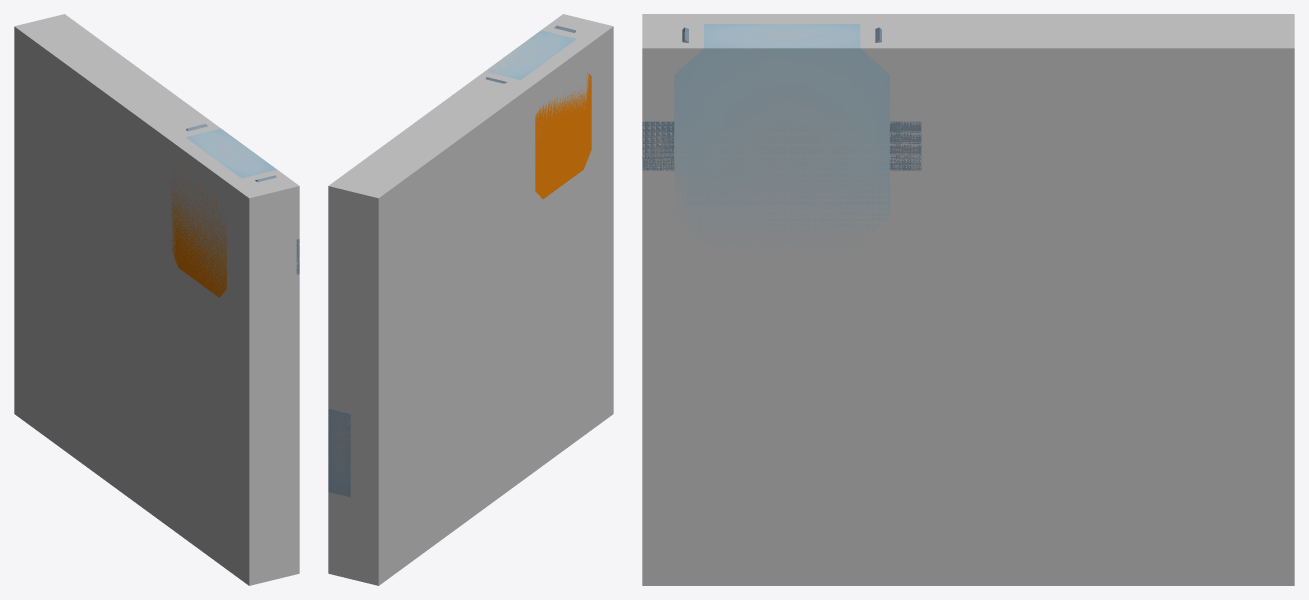
File: SM_Electric_Box_02.fbx
3 views of the same model, side by side, from view 1: azimuth 30°, elevation 25°; view 2: azimuth 150°, elevation 25°; view 3: azimuth 270°, elevation 25° (orthographic). The views are drawn at different scales.
Visible parts, largest first — view 1: SM_Electric_Box_02_ConvexHulls, SM_Electric_Box_02; view 2: SM_Electric_Box_02_ConvexHulls, SM_Electric_Box_02; view 3: SM_Electric_Box_02_ConvexHulls, SM_Electric_Box_02.
Part boxes in pixels (box(x1,y1,x2,y2)): SM_Electric_Box_02_ConvexHulls: box(14, 14, 299, 585); SM_Electric_Box_02: box(170, 124, 299, 297); SM_Electric_Box_02_ConvexHulls: box(328, 14, 613, 585); SM_Electric_Box_02: box(328, 25, 591, 497); SM_Electric_Box_02_ConvexHulls: box(642, 14, 1294, 585); SM_Electric_Box_02: box(642, 24, 921, 243).
Bounding box in the file's own units: 30 × 242 × 221.
Materials: 2 (1 with a texture image).
